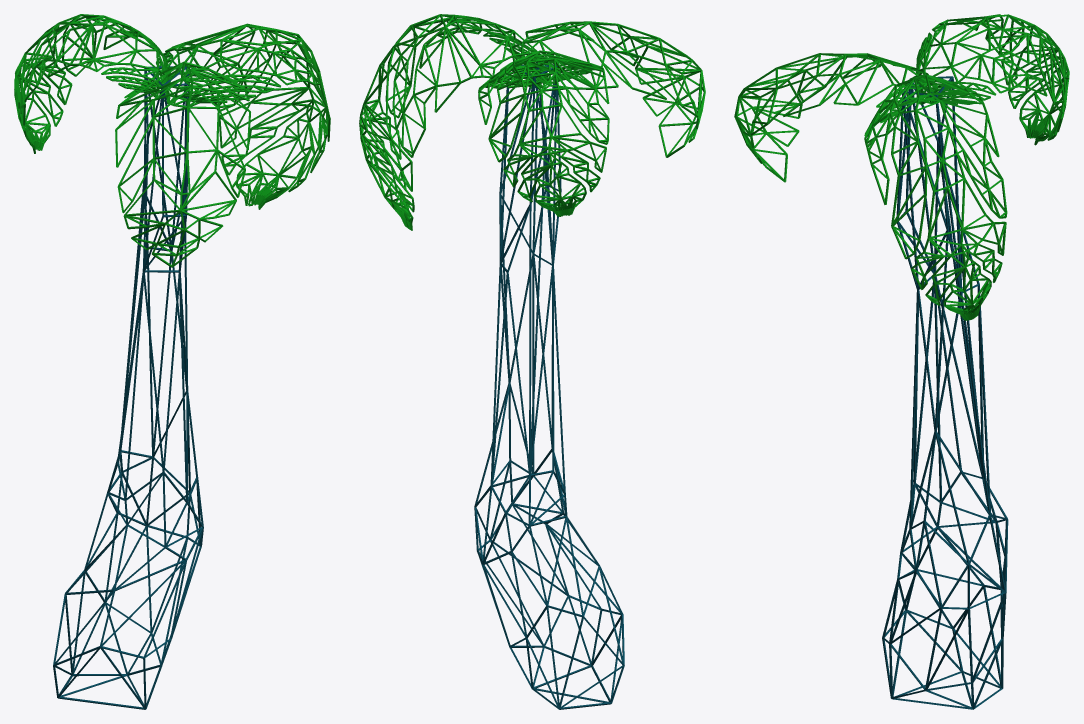
File: palm_wire_4.FBX
The picture shows the model from 3 angles, left to right: view 1: azimuth 30°, elevation 25°; view 2: azimuth 150°, elevation 25°; view 3: azimuth 270°, elevation 25°; orthographic projection. The views are drawn at different scales.
Parts seen in each view (by area): view 1: palm4, Object001; view 2: palm4, Object001; view 3: palm4, Object001.
Part boxes in pixels (x1=…): palm4: x1=14, y1=14, x2=330, y2=267; Object001: x1=53, y1=66, x2=203, y2=709; palm4: x1=359, y1=14, x2=705, y2=230; Object001: x1=474, y1=62, x2=624, y2=709; palm4: x1=734, y1=14, x2=1069, y2=320; Object001: x1=882, y1=76, x2=1008, y2=709.
Bounding box in the file's own units: 6.32 × 6.47 × 14.47.
